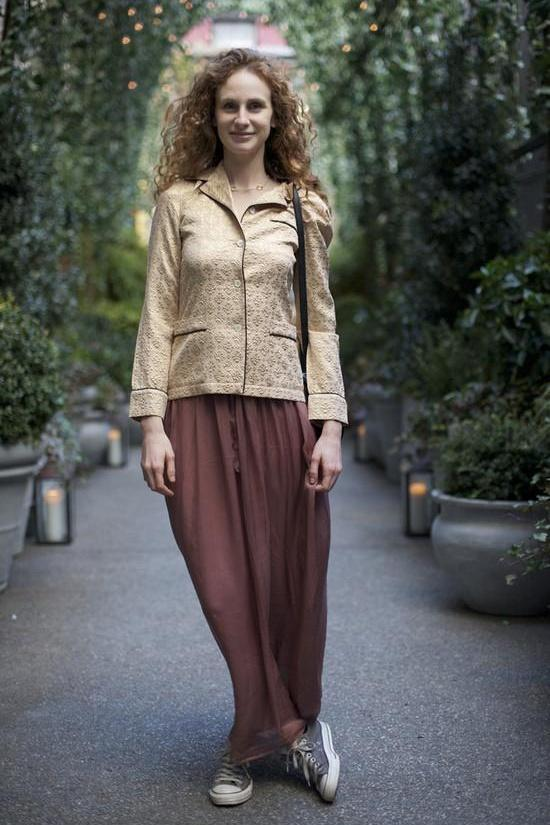shirt: (129, 162, 350, 426)
skirt: (160, 387, 334, 761)
